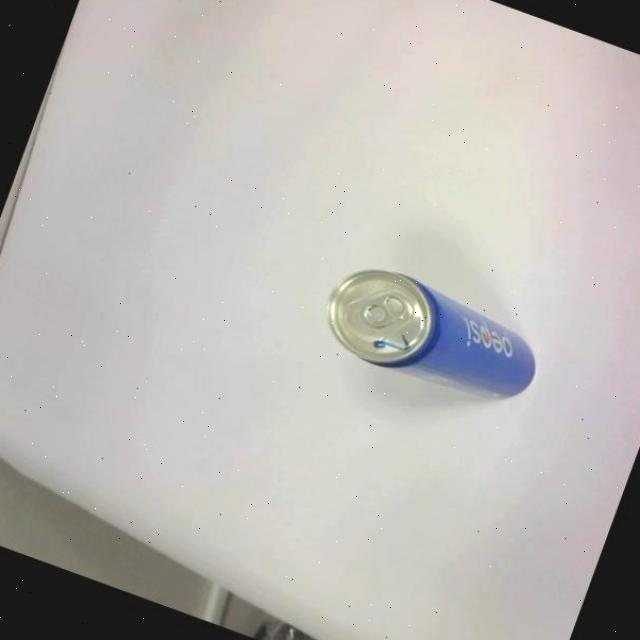debris: (310, 252, 551, 419)
